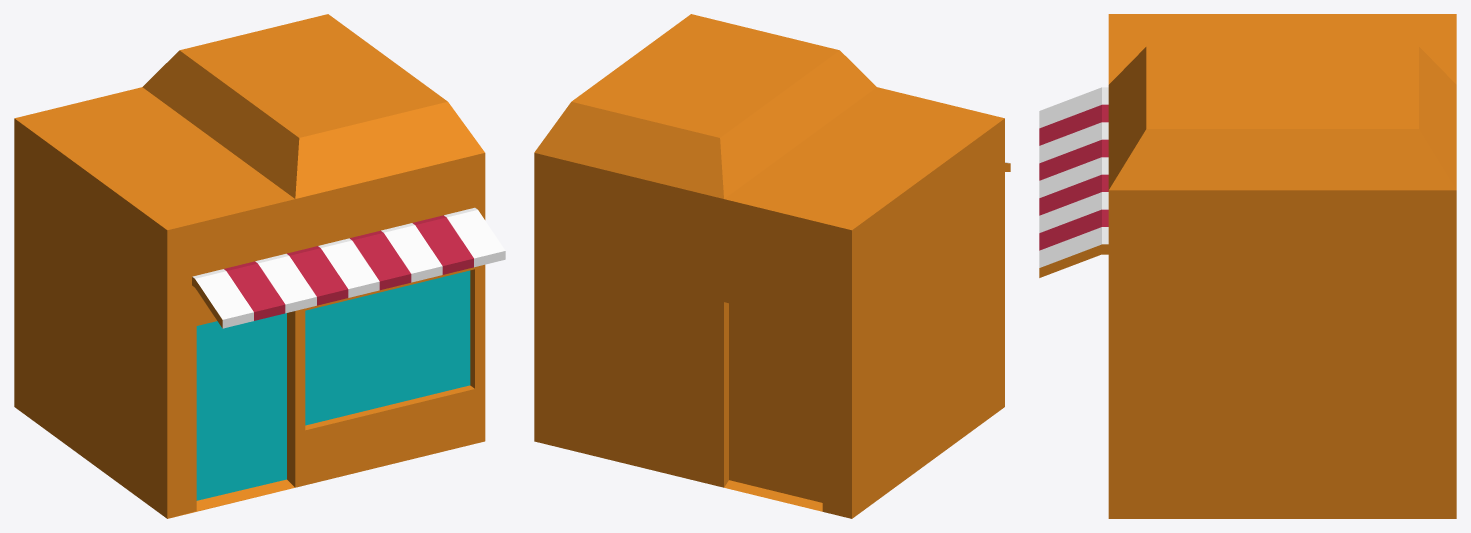
File: shop.glb
The picture shows the model from 3 angles, left to right: view 1: azimuth 30°, elevation 25°; view 2: azimuth 150°, elevation 25°; view 3: azimuth 270°, elevation 25°; orthographic projection. The views are drawn at different scales.
Visible parts, largest first — view 1: shop; view 2: shop; view 3: shop.
Boxes of the visible parts, bbox=[...] form: shop: bbox=[14, 14, 505, 518]; shop: bbox=[534, 14, 1010, 518]; shop: bbox=[1039, 14, 1456, 518].
Bounding box in the file's own units: 10 × 10 × 10.
1 material, 1 textured.
